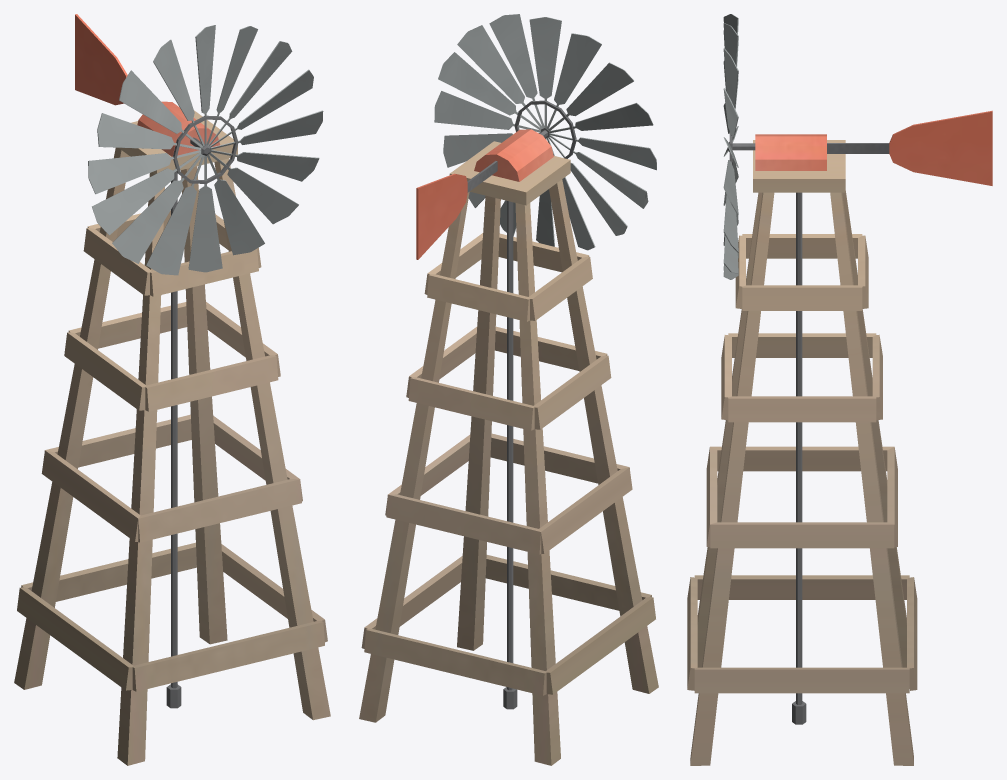
File: windmill.gltf
3 renders of one model, left to right at view 1: azimuth 30°, elevation 25°; view 2: azimuth 150°, elevation 25°; view 3: azimuth 270°, elevation 25°, orthographic. The views are drawn at different scales.
Visible parts, largest first — view 1: WindMill, WindMill.001; view 2: WindMill, WindMill.001; view 3: WindMill, WindMill.001.
Part boxes in pixels (x1=…): WindMill: x1=14, y1=14, x2=330, y2=765; WindMill.001: x1=88, y1=25, x2=323, y2=275; WindMill: x1=359, y1=129, x2=658, y2=765; WindMill.001: x1=434, y1=14, x2=656, y2=250; WindMill: x1=687, y1=110, x2=992, y2=765; WindMill.001: x1=723, y1=14, x2=755, y2=279.
Size of the model in its own units: 0.8078 by 2.33 by 0.9279.
1 material, 1 textured.
